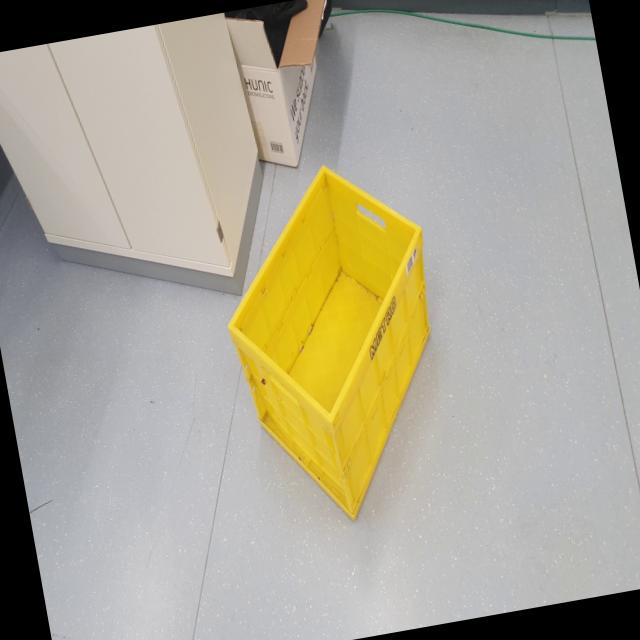box: (194, 138, 472, 543)
